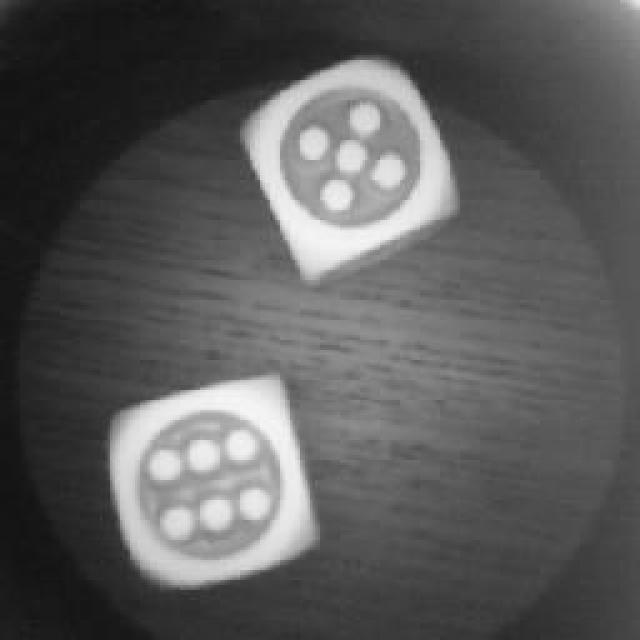dice_5: (240, 50, 462, 282)
dice_6: (102, 365, 328, 590)
